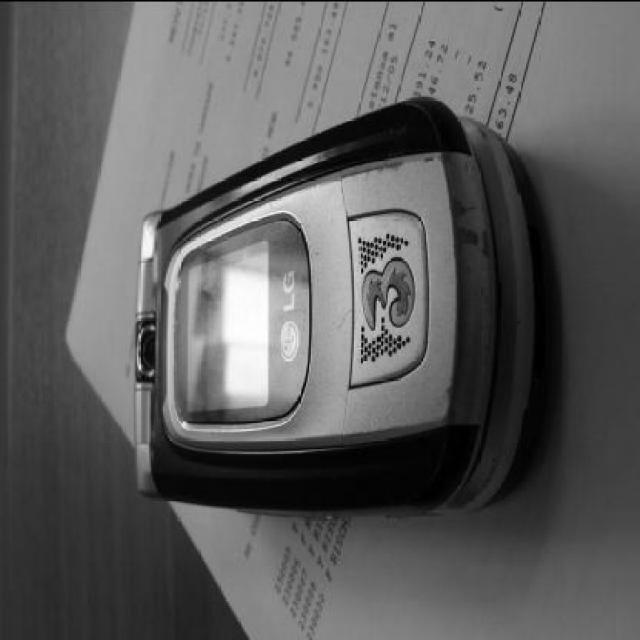fake: (132, 90, 558, 518)
